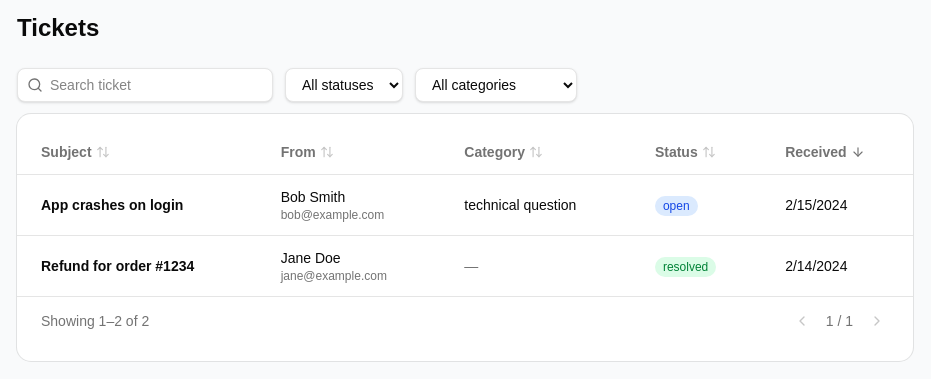
Scenario: Tickets page › sorting › clicking Subject header twice sends sortOrder=desc and shows down arrow
The image size is (931, 379).
expect the text "Bob Smith" is shown: met, box [281,189,345,205]
Click the column heading "Subject" at (66, 152), box [17,130,257,174]
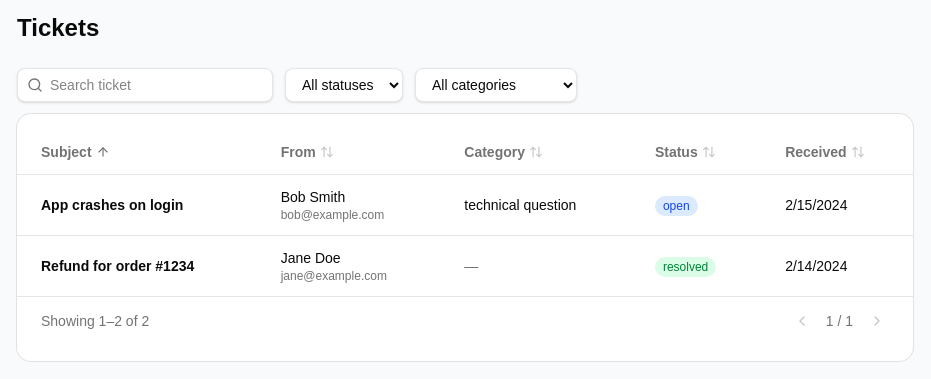
Click the column heading "Subject" at (66, 152), box [17,130,257,174]
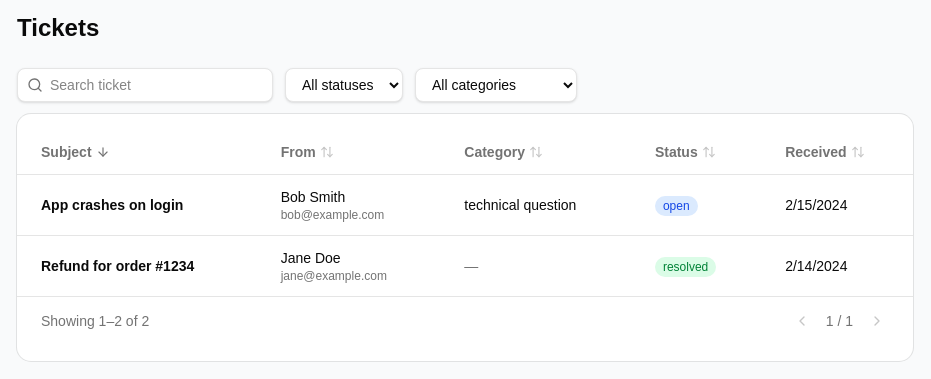
expect the icon with class "lucide-arrow-down" is shown: met, box [96,145,110,159]
